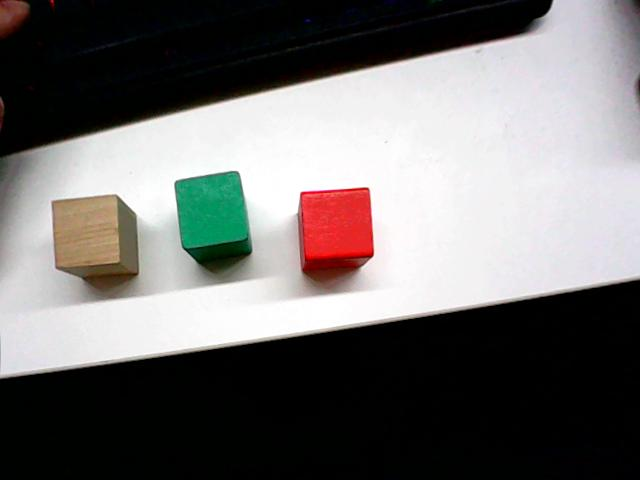green_box: (171, 167, 254, 266)
raw_box: (39, 187, 144, 283)
red_box: (294, 182, 377, 275)
